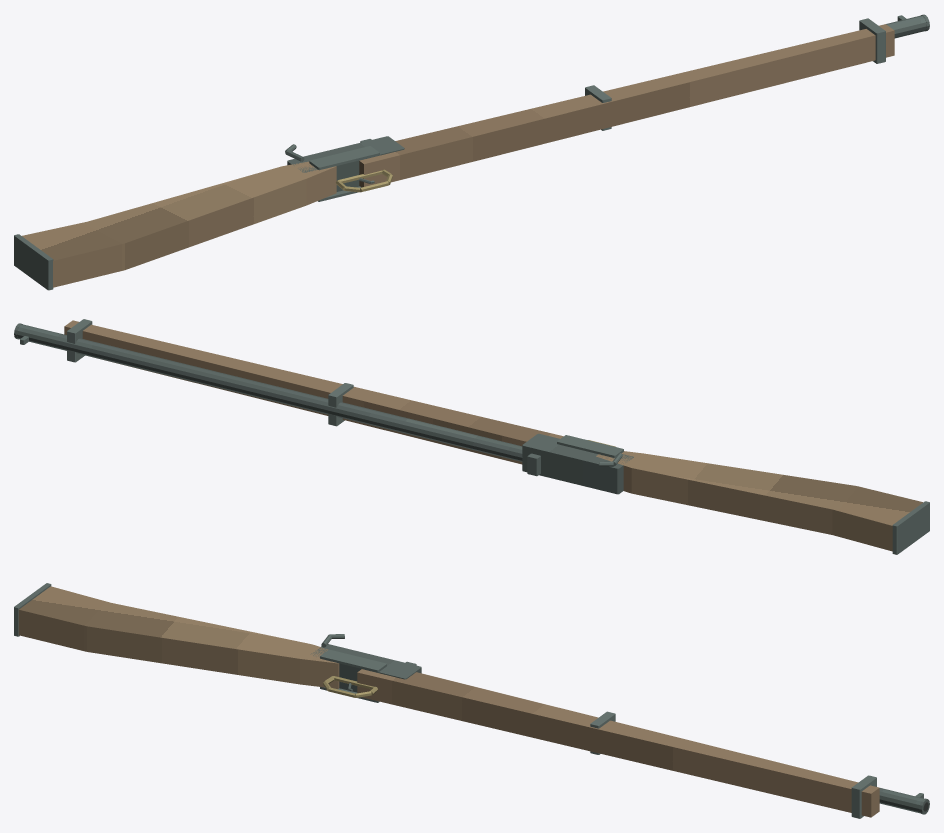
The model's file is weapon-brown-bess.glb.
3 renders of one model, top to bottom at view 1: azimuth 30°, elevation 25°; view 2: azimuth 150°, elevation 25°; view 3: azimuth 330°, elevation 25°, orthographic. The views are drawn at different scales.
Parts seen in each view (by area): view 1: weapon-brown-bess/tapered-full-depth-forend, weapon-brown-bess/shaped-solid-butt, weapon-brown-bess/central-receiver, weapon-brown-bess/butt-end-plate, weapon-brown-bess/external-lockplate-left, weapon-brown-bess/stock-band-1, weapon-brown-bess/long-barrel; view 2: weapon-brown-bess/shaped-solid-butt, weapon-brown-bess/tapered-full-depth-forend, weapon-brown-bess/long-barrel, weapon-brown-bess/central-receiver, weapon-brown-bess/butt-end-plate, weapon-brown-bess/external-lockplate-left; view 3: weapon-brown-bess/tapered-full-depth-forend, weapon-brown-bess/shaped-solid-butt, weapon-brown-bess/central-receiver, weapon-brown-bess/external-lockplate-left, weapon-brown-bess/long-barrel, weapon-brown-bess/stock-band-1.
Part boxes in pixels (x1,y1,x2,y2): weapon-brown-bess/tapered-full-depth-forend: (359, 24, 894, 187); weapon-brown-bess/shaped-solid-butt: (22, 161, 336, 287); weapon-brown-bess/central-receiver: (287, 136, 404, 191); weapon-brown-bess/butt-end-plate: (14, 234, 53, 290); weapon-brown-bess/external-lockplate-left: (309, 146, 379, 170); weapon-brown-bess/stock-band-1: (859, 18, 885, 63); weapon-brown-bess/long-barrel: (886, 15, 926, 38); weapon-brown-bess/shaped-solid-butt: (596, 451, 922, 551); weapon-brown-bess/tapered-full-depth-forend: (64, 320, 563, 464); weapon-brown-bess/long-barrel: (17, 324, 522, 461); weapon-brown-bess/central-receiver: (522, 433, 633, 494); weapon-brown-bess/butt-end-plate: (892, 501, 929, 554); weapon-brown-bess/external-lockplate-left: (557, 435, 623, 457); weapon-brown-bess/tapered-full-depth-forend: (357, 669, 879, 817); weapon-brown-bess/shaped-solid-butt: (18, 586, 339, 688); weapon-brown-bess/central-receiver: (310, 644, 421, 692); weapon-brown-bess/external-lockplate-left: (320, 649, 386, 672); weapon-brown-bess/long-barrel: (879, 788, 923, 813); weapon-brown-bess/stock-band-1: (851, 775, 876, 818).
Bounding box in the file's own units: 1.57 × 0.064 × 0.1539.
Materials: 4 (4 with a texture image).
